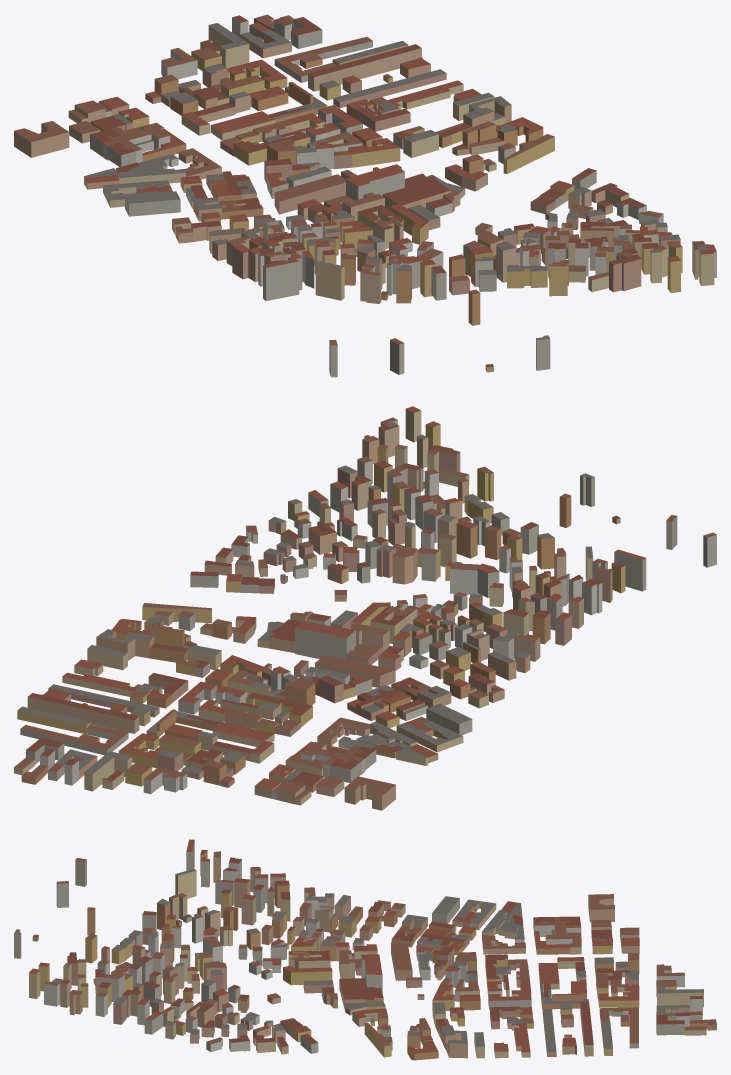
File: SM_Fondale_Citta_NO_02.fbx
3 renders of one model, top to bottom at view 1: azimuth 30°, elevation 25°; view 2: azimuth 150°, elevation 25°; view 3: azimuth 270°, elevation 25°, orthographic. The views are drawn at different scales.
Parts seen in each view (by area): view 1: SM_Fondale_Citta_NO_02; view 2: SM_Fondale_Citta_NO_02; view 3: SM_Fondale_Citta_NO_02.
Part boxes in pixels (bbox=[...]): SM_Fondale_Citta_NO_02: bbox=[14, 14, 716, 377]; SM_Fondale_Citta_NO_02: bbox=[14, 406, 716, 810]; SM_Fondale_Citta_NO_02: bbox=[14, 839, 716, 1060].
Bounding box in the file's own units: 45824 × 82648 × 8290.
